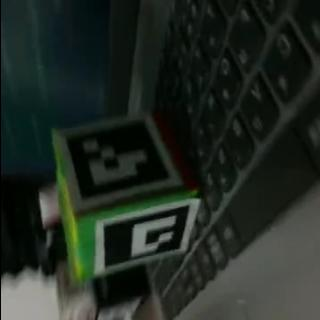armor: (54, 116, 180, 210), (94, 202, 198, 270)
robot: (50, 113, 202, 280)
